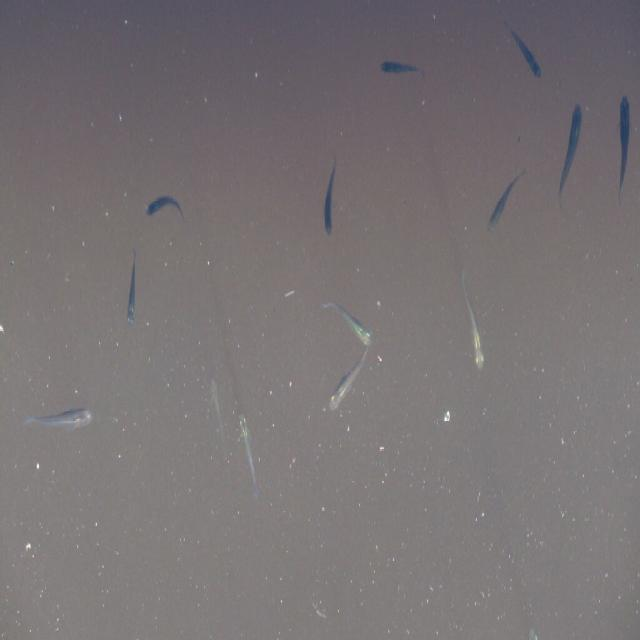Sivrisinek Baligi: (454, 264, 494, 372), (556, 103, 588, 210), (332, 342, 377, 418), (231, 409, 264, 502), (323, 291, 375, 350), (506, 17, 546, 86), (487, 166, 526, 229), (19, 403, 97, 430), (615, 90, 632, 206), (321, 154, 342, 233), (124, 248, 144, 330), (142, 192, 185, 221), (377, 56, 424, 80)
